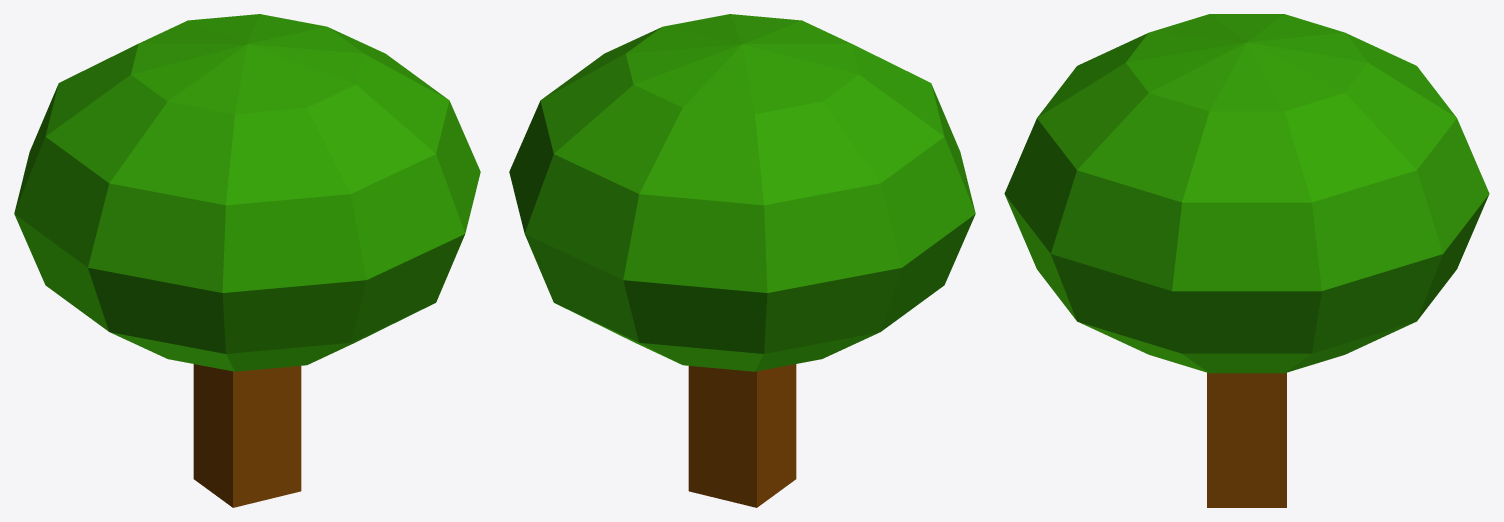
File: Tree01.glb
3 renders of one model, left to right at view 1: azimuth 30°, elevation 25°; view 2: azimuth 150°, elevation 25°; view 3: azimuth 270°, elevation 25°, orthographic.
Parts seen in each view (by area): view 1: Tree01; view 2: Tree01; view 3: Tree01.
Part boxes in pixels (x1,y1,x2,y2): Tree01: [14, 14, 480, 507]; Tree01: [509, 14, 975, 507]; Tree01: [1004, 14, 1489, 507].
Bounding box in the file's own units: 1.15 × 1.24 × 1.21.
1 material, 1 textured.
